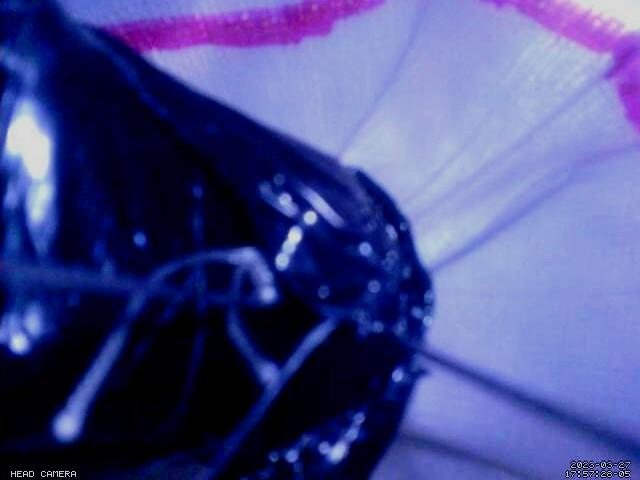red-circle: (99, 0, 640, 134)
